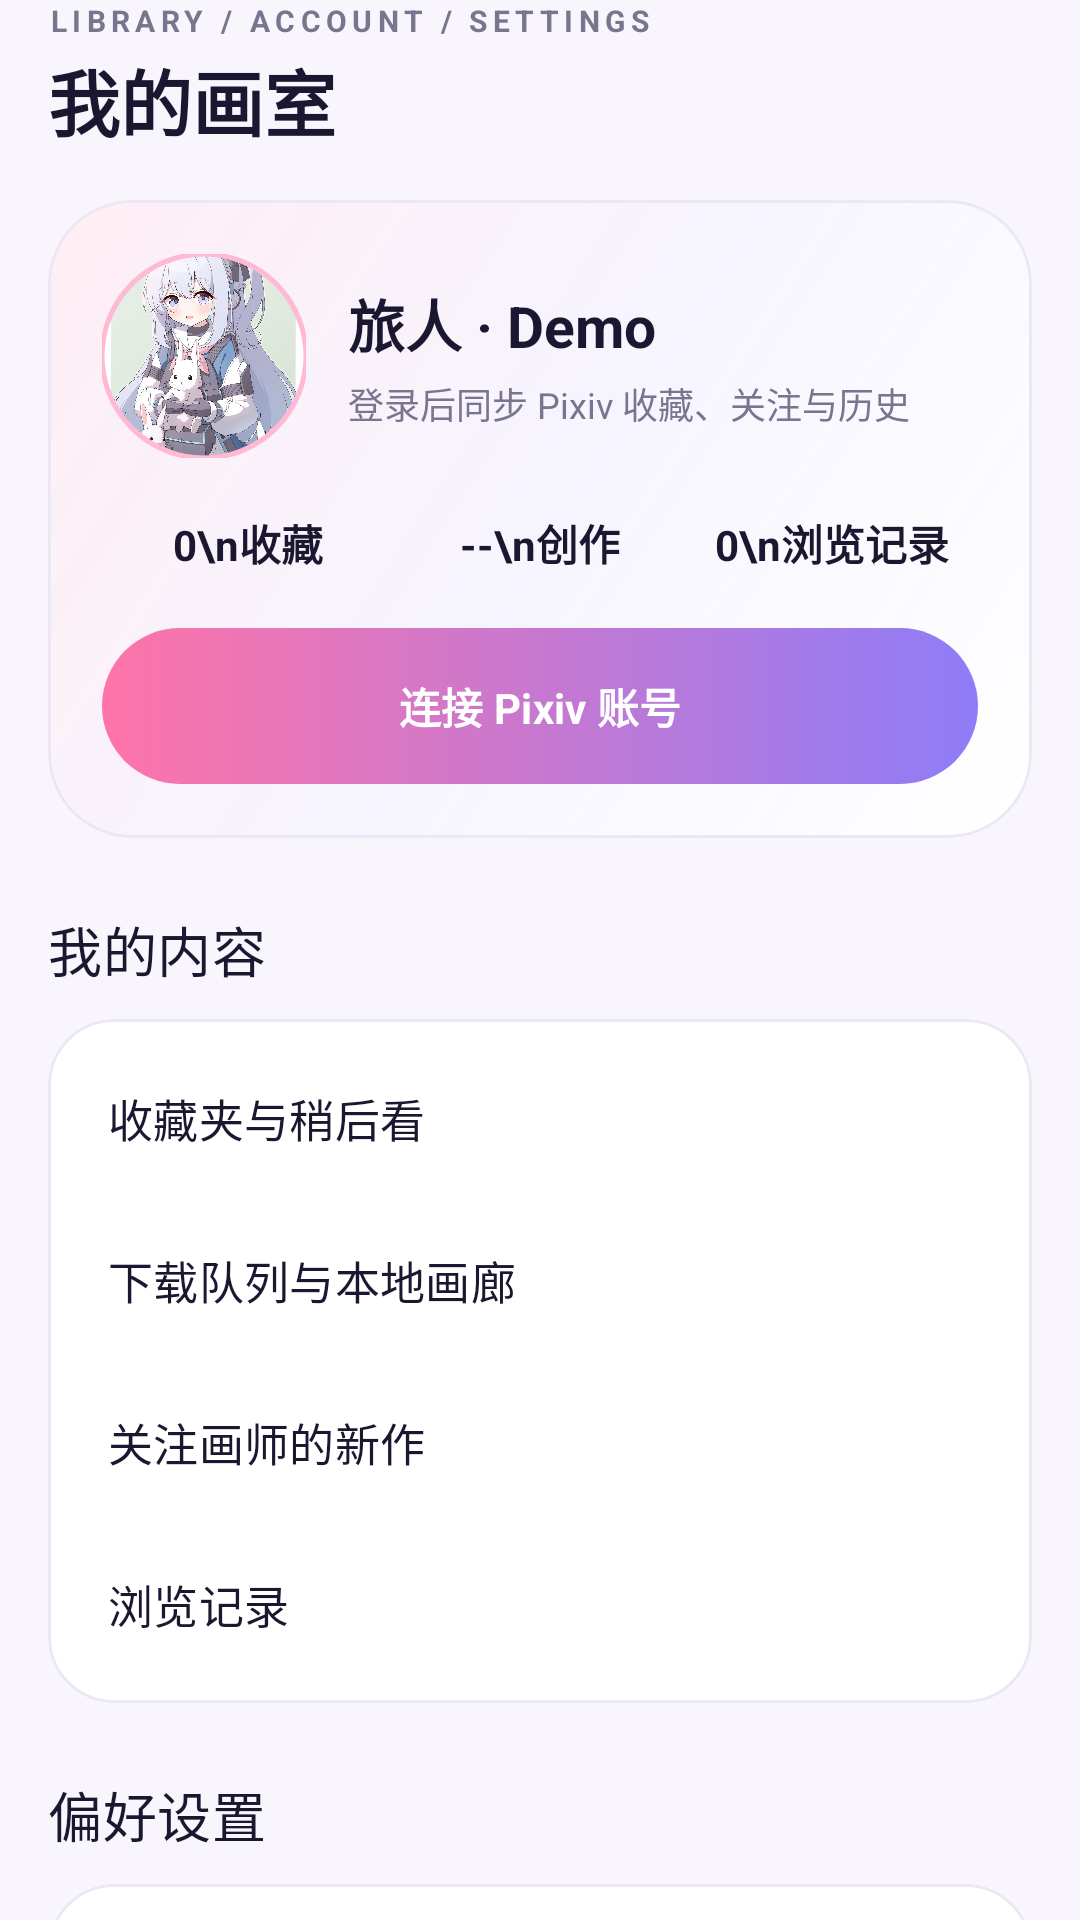

Named icons in this screenshot (1080*1920) and their bounding boxes, (x1, y1, x2, y2):
头像: (102, 254, 306, 458)
